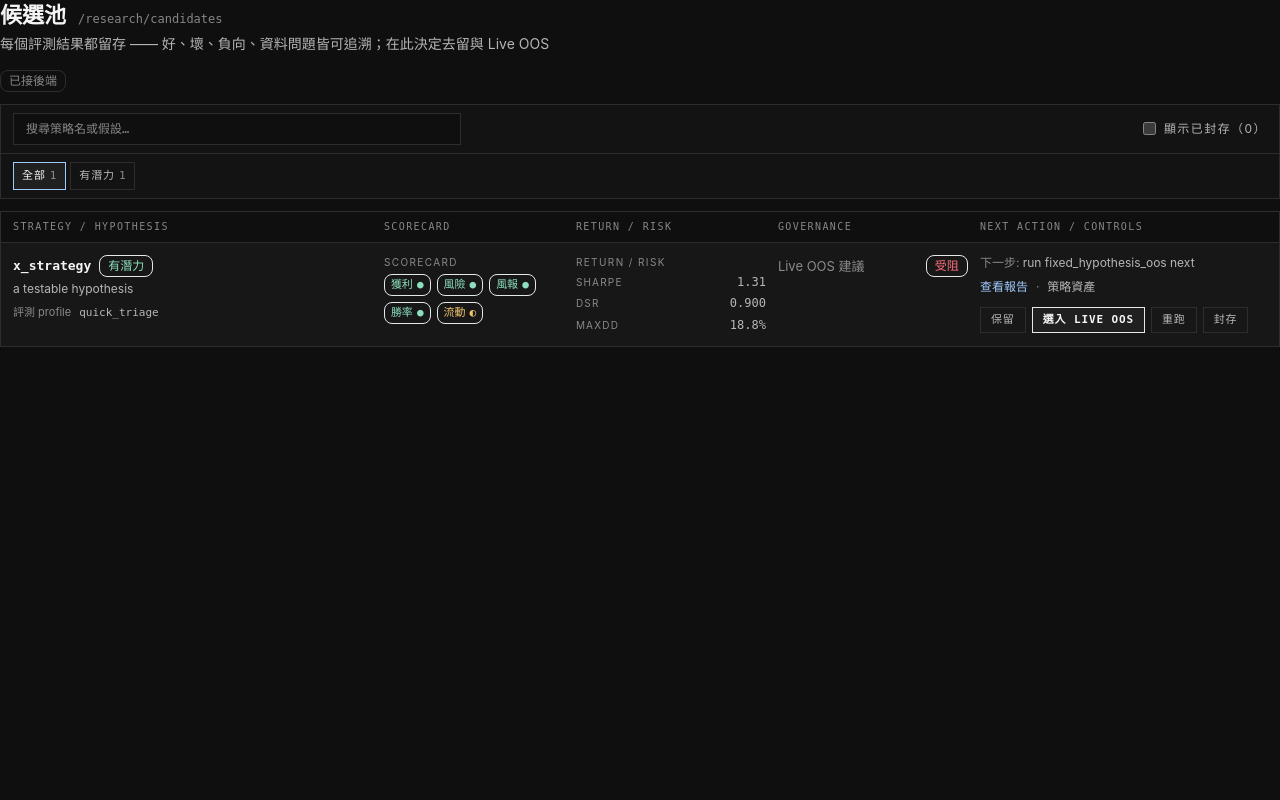
CandidatePoolPage — api mode (real mutations) › blocked selection 409 → error surfaces inside the reason dialog (not silent)
Expected: the heading "x_strategy" is shown, [13, 257, 91, 276]
Click the button "選入 Live OOS".
click(1088, 320)  # box [1032, 307, 1145, 333]
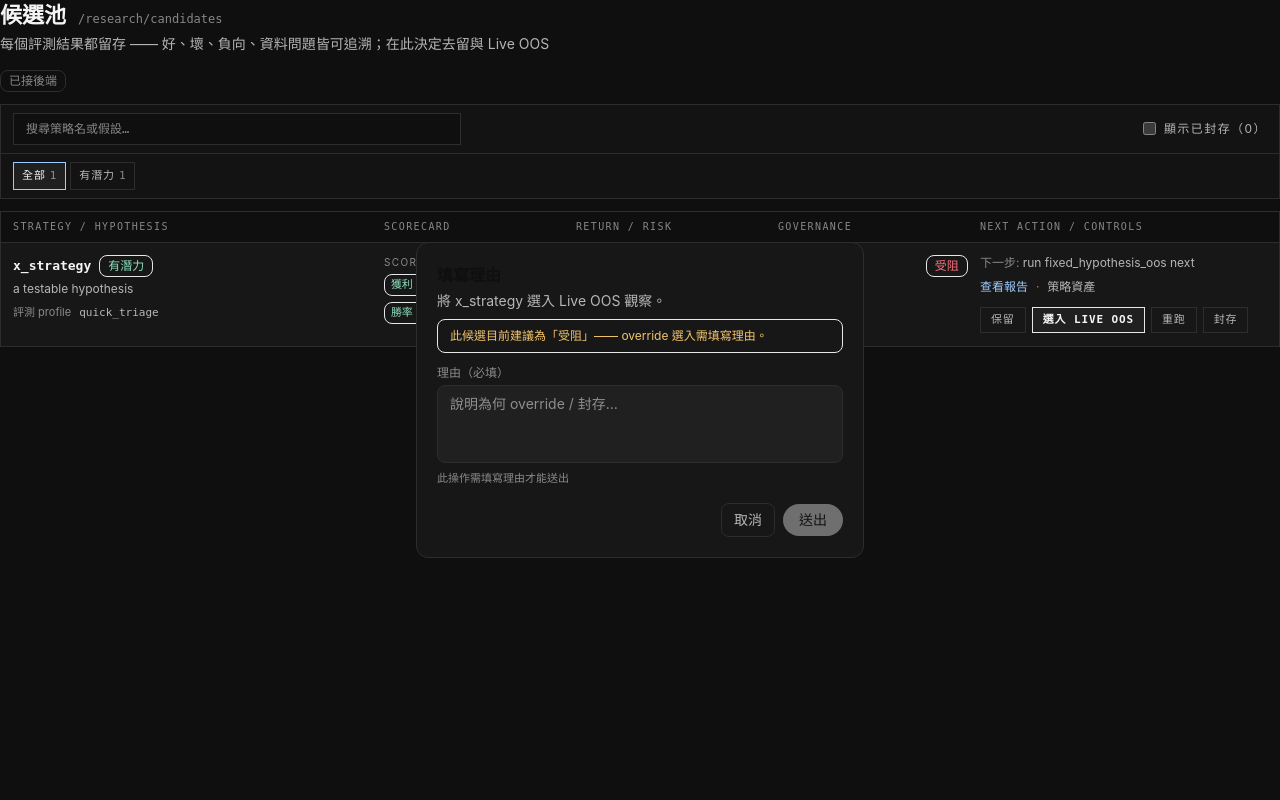
Type "try anyway" into the text box.
click(640, 424); type("try anyway")  # box [437, 385, 843, 463]
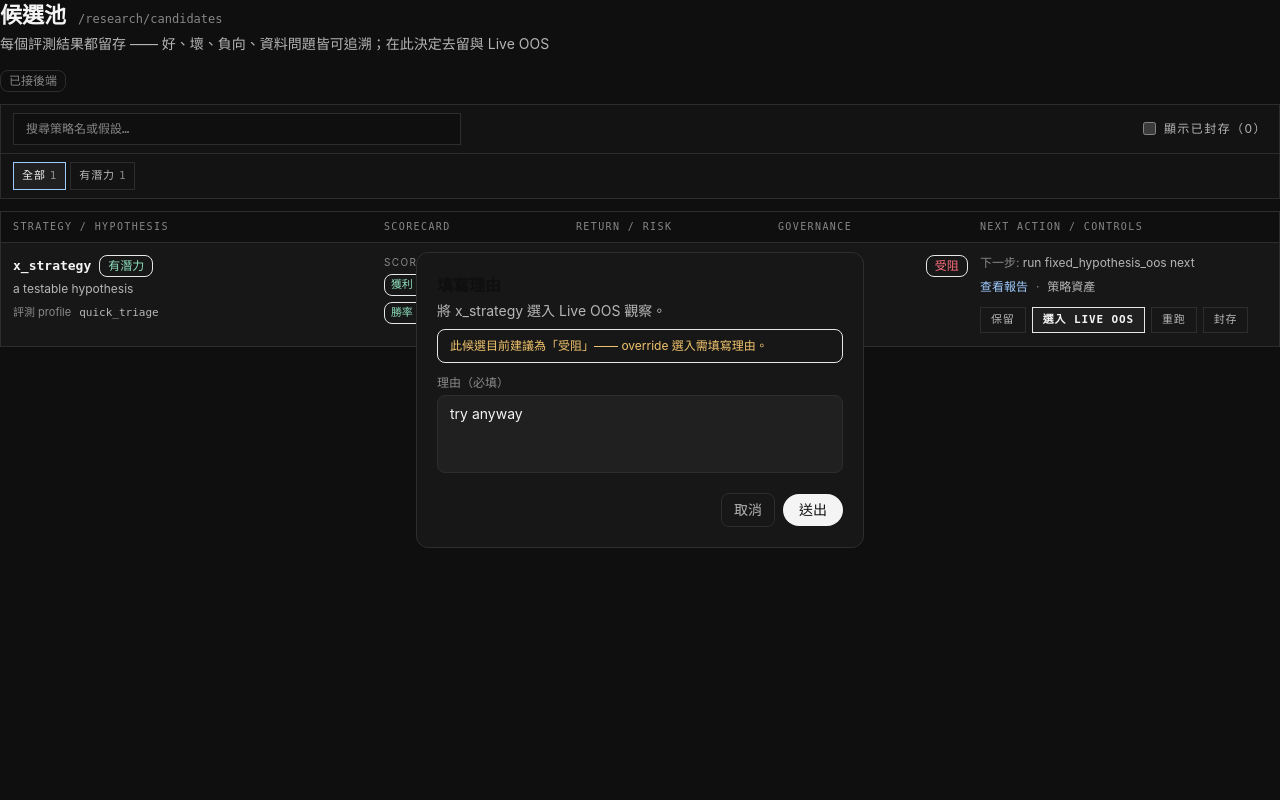
Click the button "送出".
click(813, 510)  # box [783, 494, 843, 526]
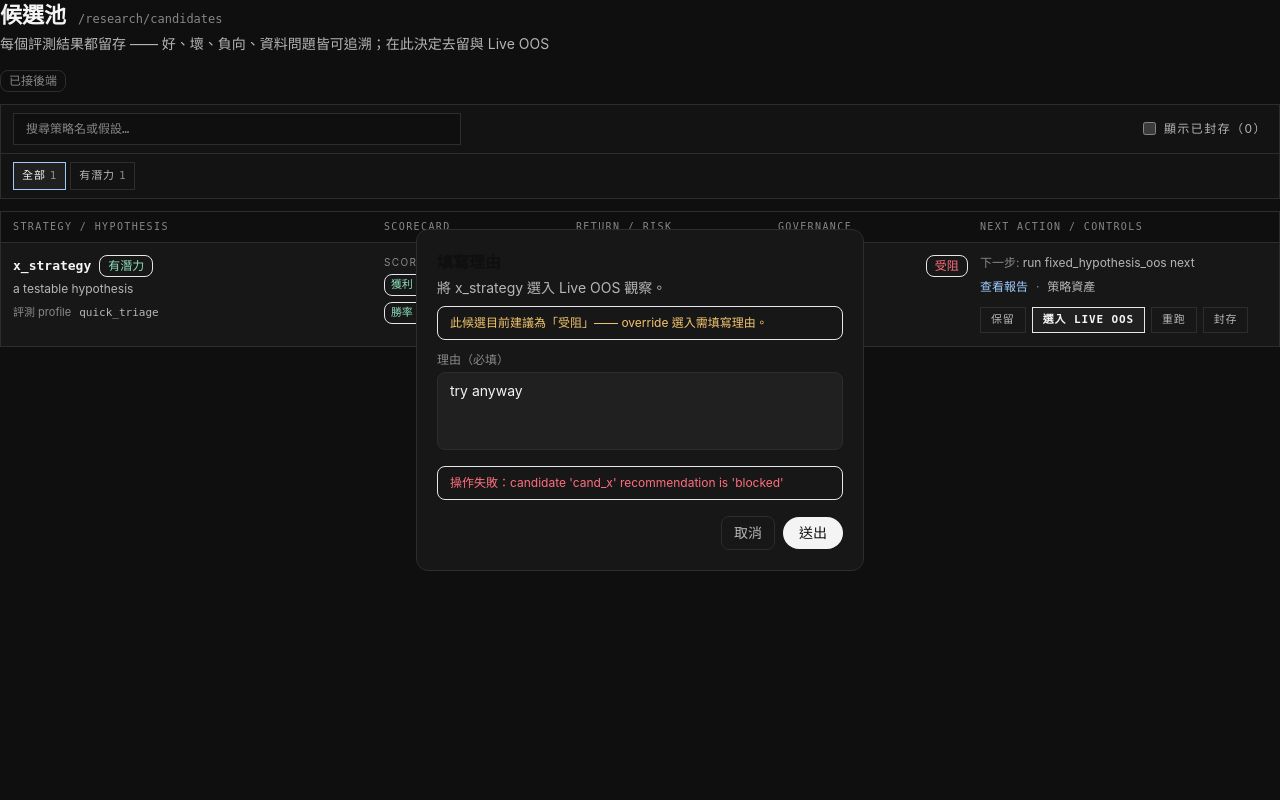
Result: the dialog is shown at [416, 229, 864, 571]
Result: the text "操作失敗：candidate 'cand_x' recommendation is 'blocked'" is shown at [437, 466, 843, 500]
